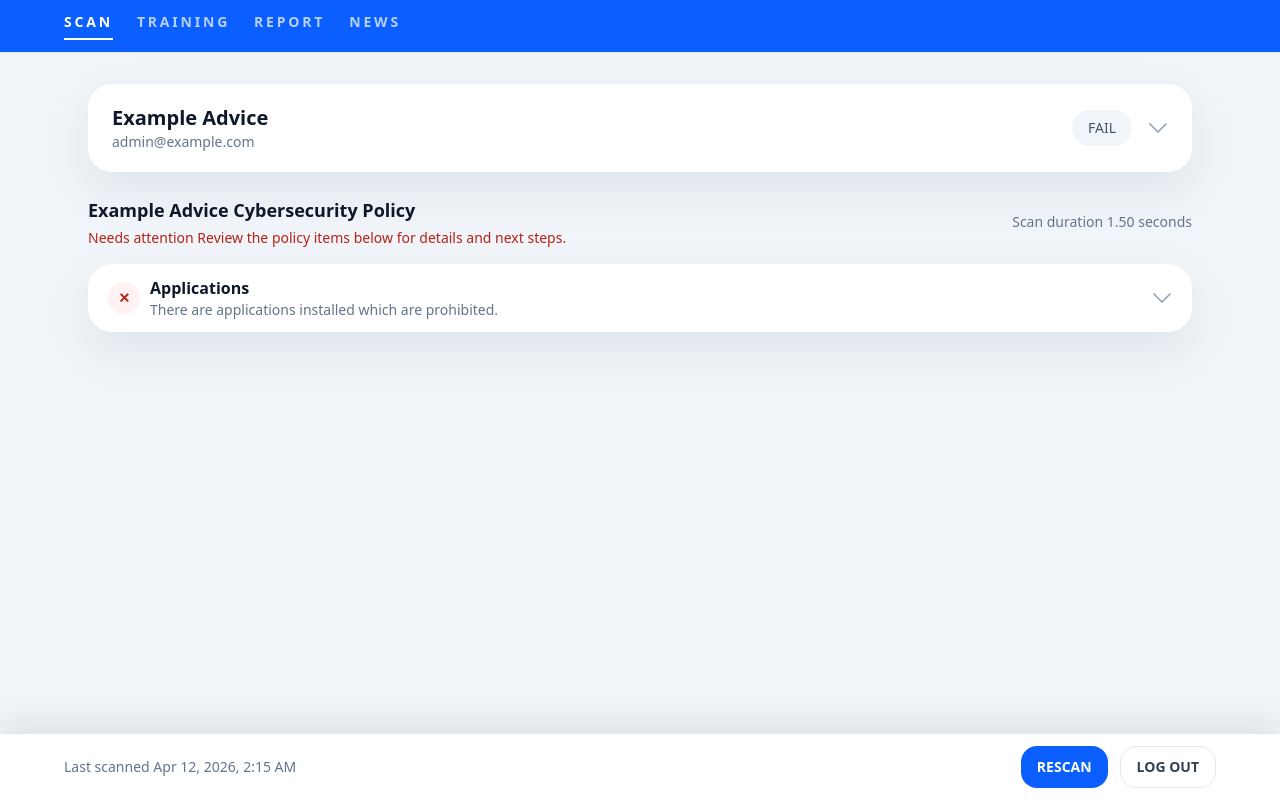
Test case: renders Applications details compactly when the description is empty
Click the button "Applications" at x=124, y=298, box [88, 264, 1192, 332]
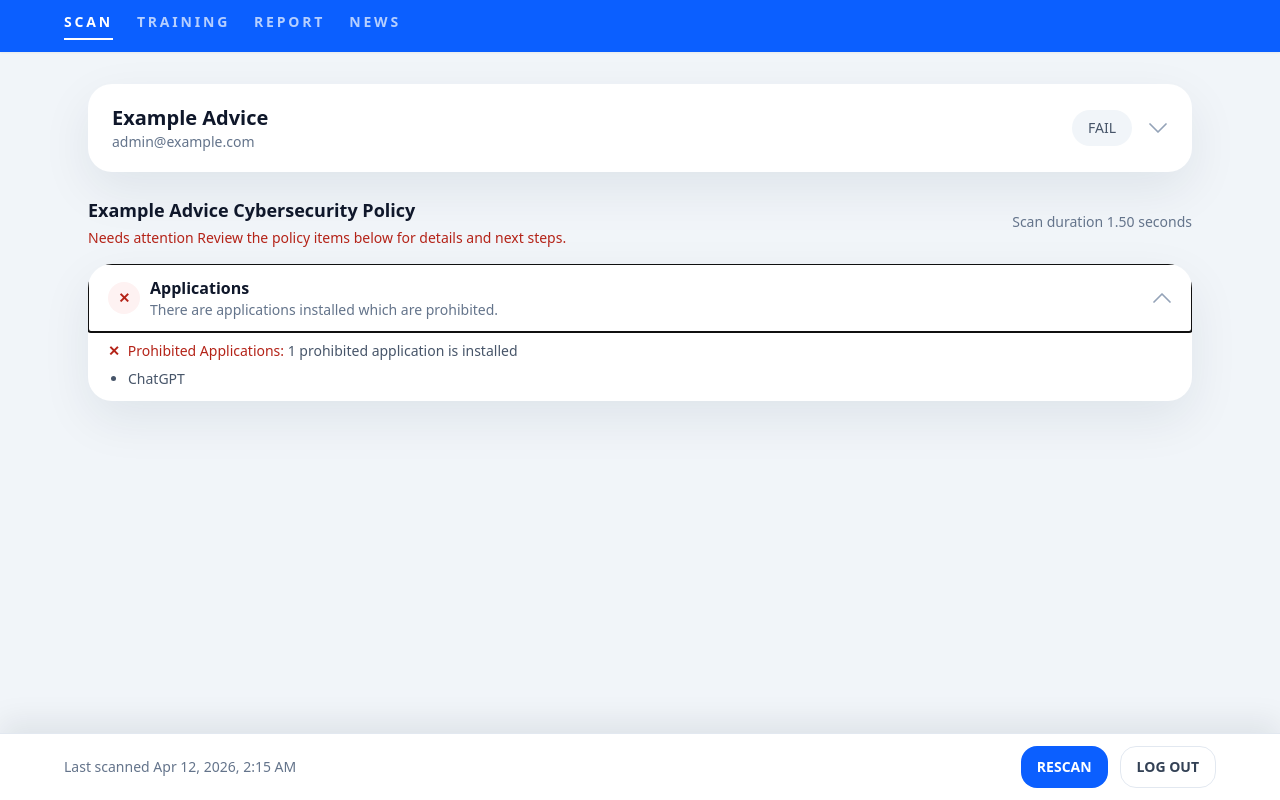
Result: the element that starts with "Prohibited Applications:" is shown at [88, 332, 1192, 401]
Result: the text "Prohibited Applications:" is shown at [128, 341, 284, 360]
